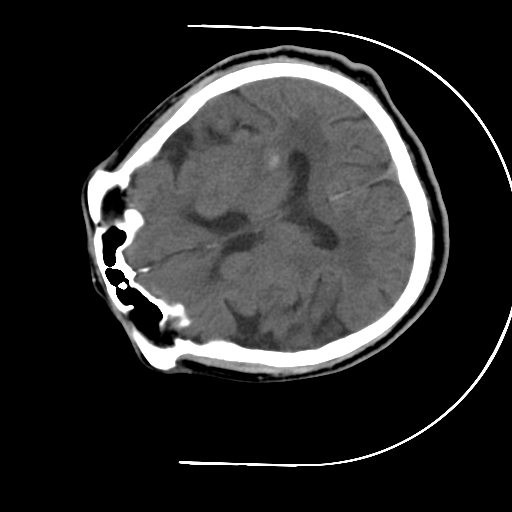a: (242, 127, 296, 185)
